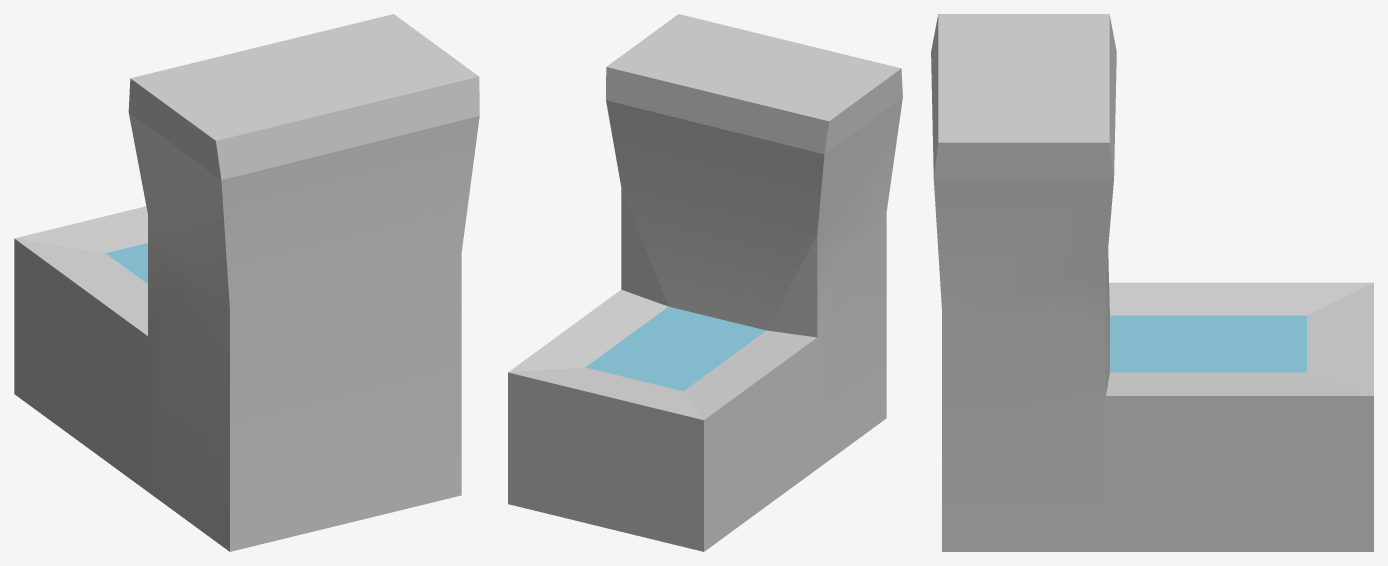
Rendered from Toilet.fbx.
3 views of the same model, side by side, from view 1: azimuth 30°, elevation 25°; view 2: azimuth 150°, elevation 25°; view 3: azimuth 270°, elevation 25° (orthographic). The views are drawn at different scales.
Parts seen in each view (by area): view 1: toilet; view 2: toilet; view 3: toilet.
Boxes of the visible parts, x1,y1,x2,y2 form: toilet: (14, 14, 479, 551); toilet: (508, 14, 902, 551); toilet: (931, 14, 1373, 551).
Size of the model in its own units: 0.0114 by 0.0172 by 0.0165.
